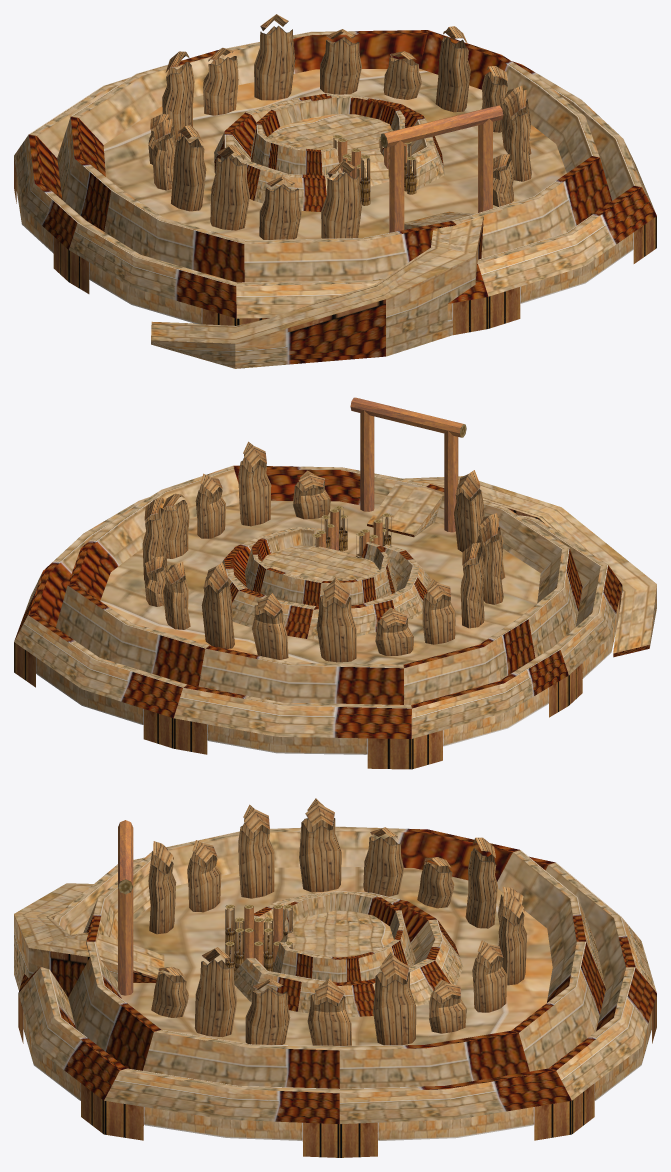
File: editor_stone_ring.dae
The picture shows the model from 3 angles, top to bottom: view 1: azimuth 30°, elevation 25°; view 2: azimuth 150°, elevation 25°; view 3: azimuth 270°, elevation 25°; orthographic projection. The views are drawn at different scales.
Parts seen in each view (by area): view 1: editor_stone_ring; view 2: editor_stone_ring; view 3: editor_stone_ring.
Part boxes in pixels (<box>): editor_stone_ring: <box>14,14,656,368</box>; editor_stone_ring: <box>14,397,656,769</box>; editor_stone_ring: <box>14,798,656,1157</box>.
Bounding box in the file's own units: 27.91 × 28.25 × 8.75.
